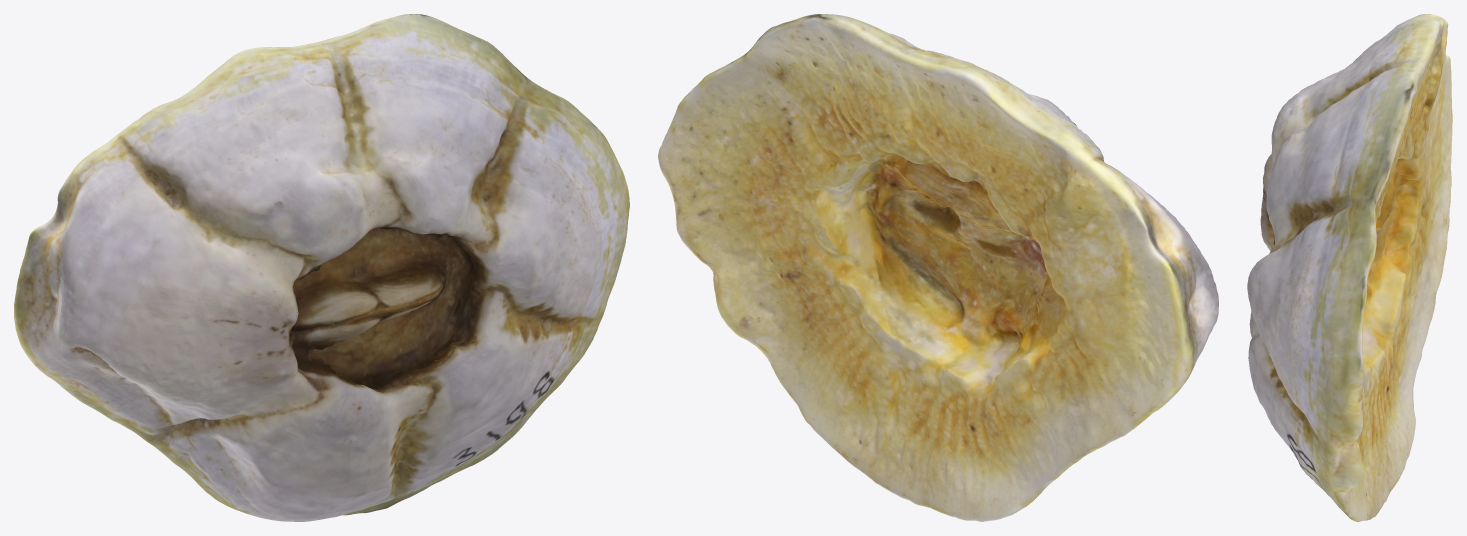
Rendered from sea_turtle_barnacle.glb.
The picture shows the model from 3 angles, left to right: view 1: azimuth 30°, elevation 25°; view 2: azimuth 150°, elevation 25°; view 3: azimuth 270°, elevation 25°; orthographic projection. The views are drawn at different scales.
Visible parts, largest first — view 1: Object_2; view 2: Object_2; view 3: Object_2.
Boxes of the visible parts, x1=… form: Object_2: x1=14, y1=14, x2=629, y2=521; Object_2: x1=658, y1=14, x2=1218, y2=521; Object_2: x1=1247, y1=14, x2=1452, y2=521.
Bounding box in the file's own units: 0.8359 × 0.6649 × 0.2738.
Materials: 1 (1 with a texture image).
